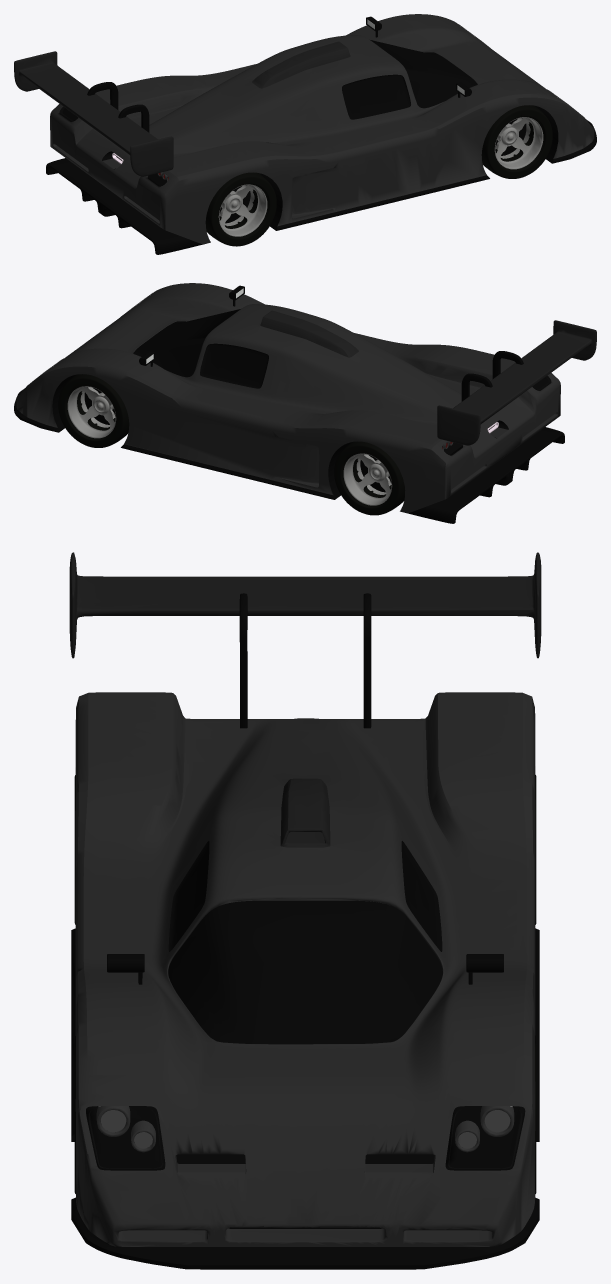
File: le-mans-race-car.glb
3 views of the same model, one above another, from view 1: azimuth 30°, elevation 25°; view 2: azimuth 150°, elevation 25°; view 3: azimuth 270°, elevation 25° (orthographic). The views are drawn at different scales.
Parts seen in each view (by area): view 1: Object_4, Object_5, Object_17, Object_6, Object_10; view 2: Object_4, Object_5, Object_17, Object_6, Object_10; view 3: Object_4, Object_5, Object_10, Object_6, Object_12, Object_17.
Part boxes in pixels (box(x1,y1,x2,y2)): Object_4: box(14, 14, 596, 254); Object_5: box(342, 40, 477, 119); Object_17: box(205, 105, 552, 246); Object_6: box(63, 108, 526, 223); Object_10: box(59, 23, 578, 186); Object_4: box(14, 283, 596, 523); Object_5: box(133, 309, 268, 388); Object_17: box(58, 374, 405, 515); Object_6: box(84, 377, 547, 492); Object_10: box(32, 292, 551, 455); Object_4: box(69, 552, 541, 1269); Object_5: box(168, 841, 442, 1043); Object_10: box(86, 1106, 525, 1170); Object_6: box(90, 1106, 520, 1228); Object_12: box(101, 1110, 509, 1147); Object_17: box(74, 774, 536, 1193).
Size of the model in its own units: 13.83 by 3.48 by 5.76.
7 materials, 7 textured.
